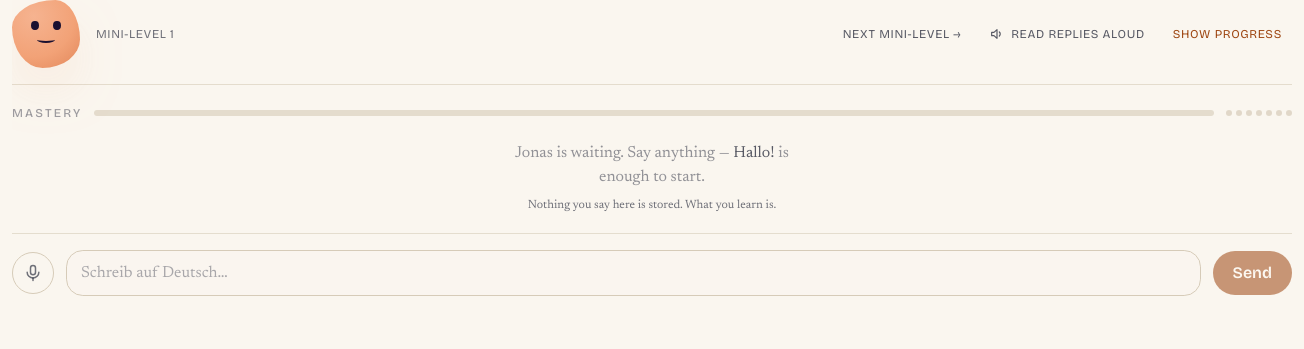
Test case: the transcript follows the conversation › scrolls to the reply as it arrives
Step 1. Type "Hallo" into the field named "your message in german" → coordinates (633, 273), box [66,250,1201,296]
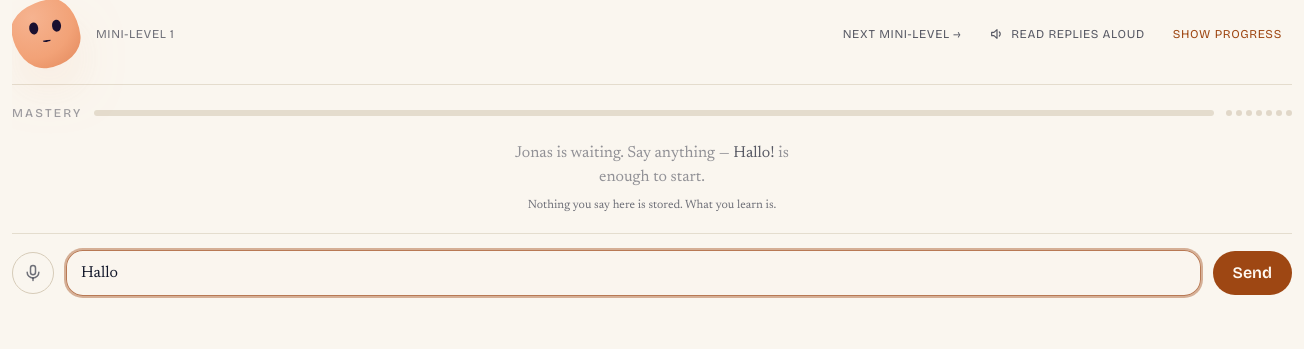
Step 2. Click the button "Send" → coordinates (1252, 273), box [1213,251,1292,295]
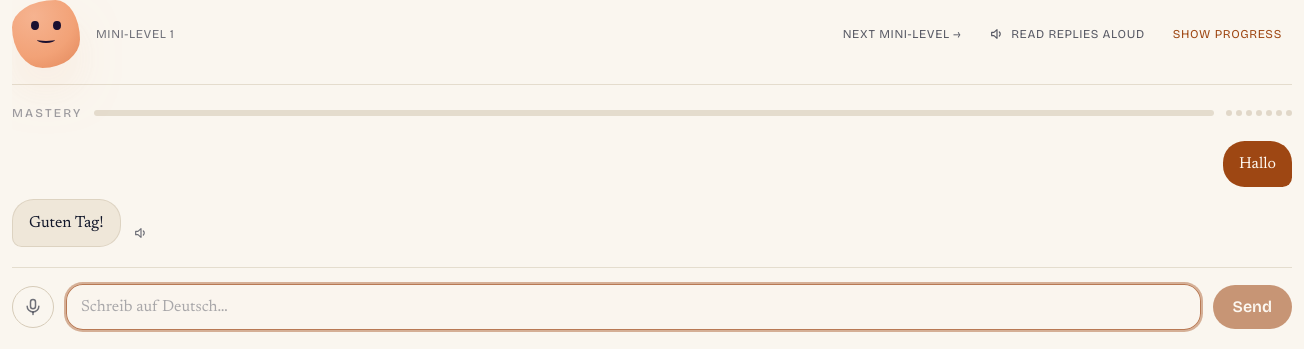
Expected: the text "Guten Tag!" is shown, [12,199,121,247]
